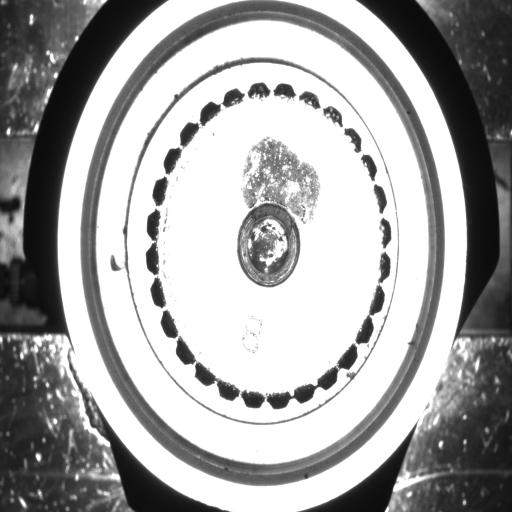gear: (138, 78, 395, 415)
